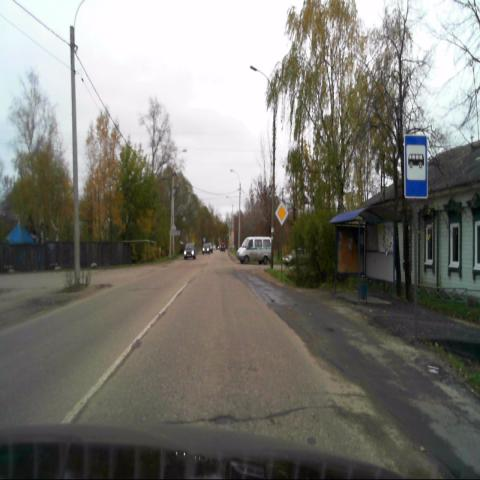2_1: (274, 201, 288, 226)
5_16: (403, 134, 429, 200)
